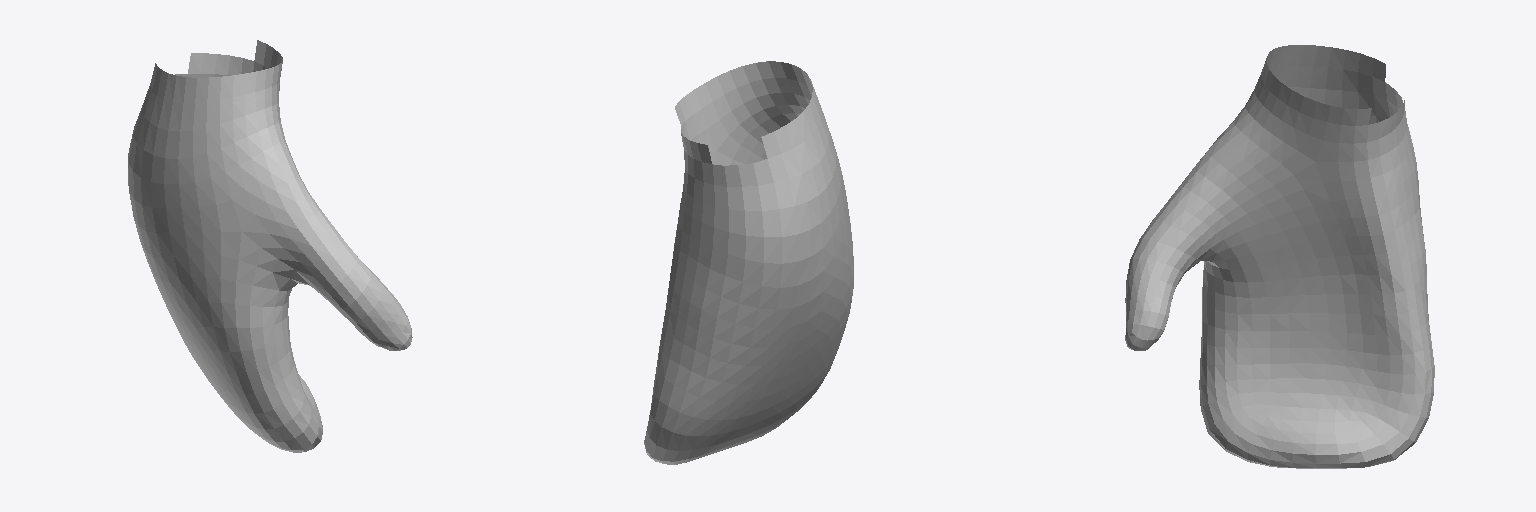
The model's file is RightHand.obj.
3 views of the same model, side by side, from view 1: azimuth 30°, elevation 25°; view 2: azimuth 150°, elevation 25°; view 3: azimuth 270°, elevation 25° (orthographic).
Parts seen in each view (by area): view 1: Stick_Figure_by_Swp.003; view 2: Stick_Figure_by_Swp.003; view 3: Stick_Figure_by_Swp.003.
Boxes of the visible parts, <box> form: Stick_Figure_by_Swp.003: <box>128,40,412,452</box>; Stick_Figure_by_Swp.003: <box>644,61,853,464</box>; Stick_Figure_by_Swp.003: <box>1125,45,1434,468</box>.
Bounding box in the file's own units: 0.2767 × 0.5973 × 0.4373.